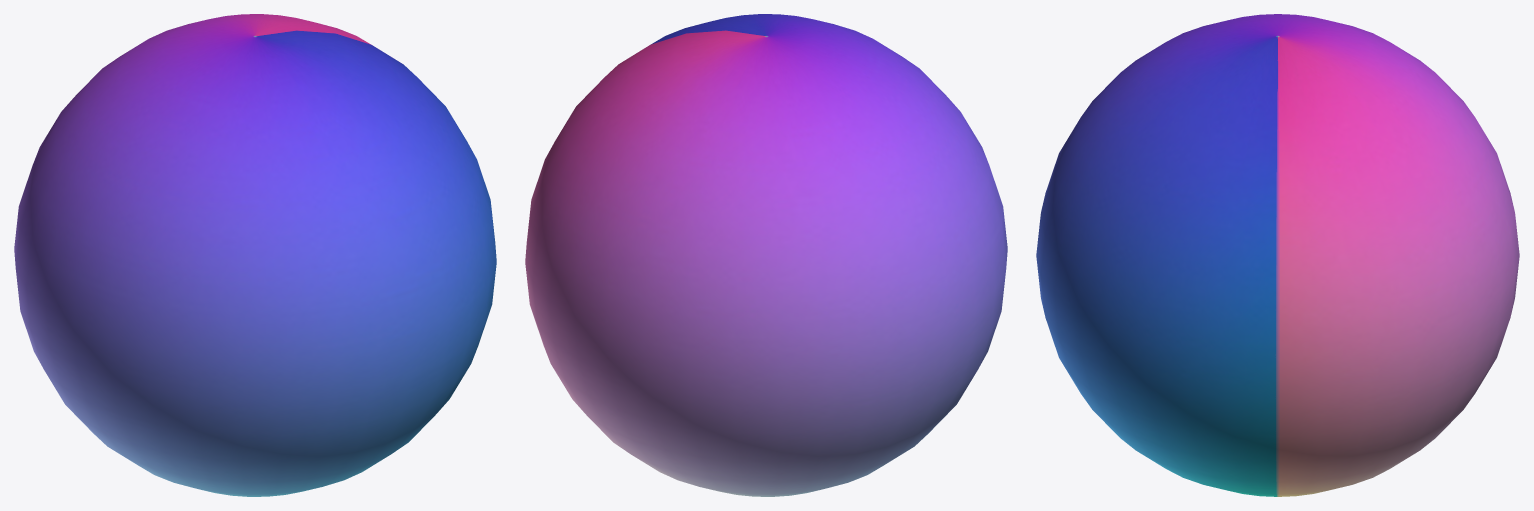
The model's file is CAT_EYEBALL.dae.
3 views of the same model, side by side, from view 1: azimuth 30°, elevation 25°; view 2: azimuth 150°, elevation 25°; view 3: azimuth 270°, elevation 25° (orthographic).
Visible parts, largest first — view 1: DRAGON_SPHERE; view 2: DRAGON_SPHERE; view 3: DRAGON_SPHERE.
Part boxes in pixels (x1=…): DRAGON_SPHERE: x1=14, y1=14, x2=496, y2=496; DRAGON_SPHERE: x1=525, y1=14, x2=1007, y2=496; DRAGON_SPHERE: x1=1036, y1=14, x2=1519, y2=496.
Size of the model in its own units: 72 by 72 by 72.
Materials: 2 (1 with a texture image).
